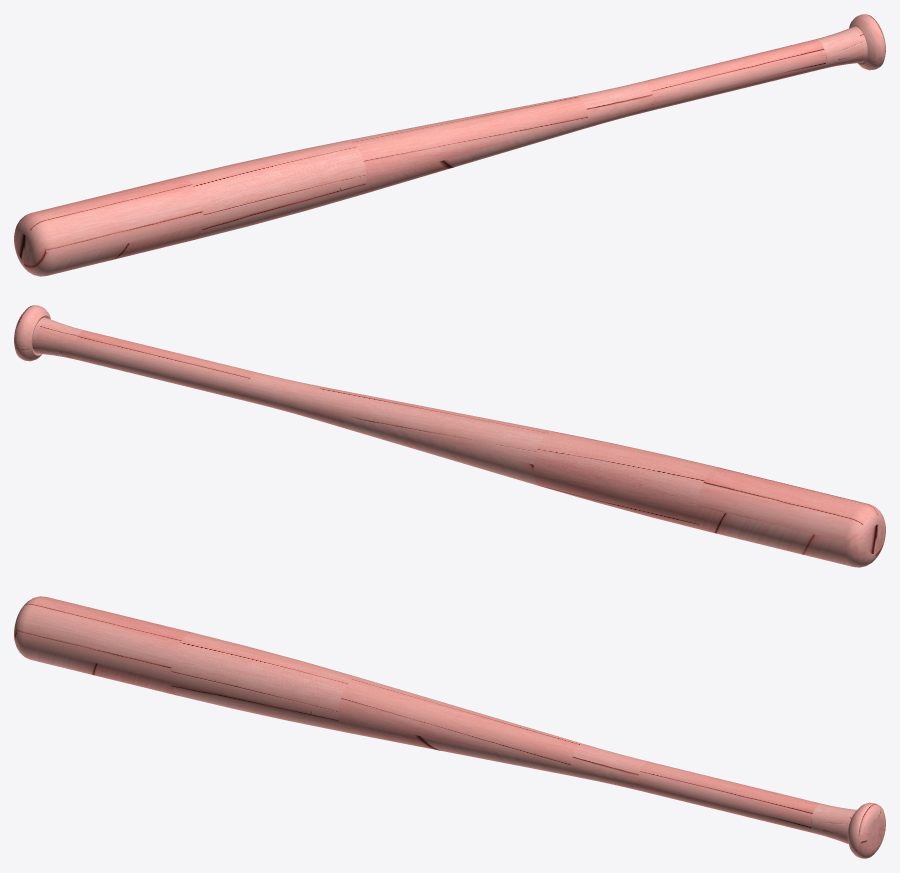
File: BAT_DEFINITIVO.obj
3 renders of one model, top to bottom at view 1: azimuth 30°, elevation 25°; view 2: azimuth 150°, elevation 25°; view 3: azimuth 330°, elevation 25°, orthographic.
Parts seen in each view (by area): view 1: Cylinder__0; view 2: Cylinder__0; view 3: Cylinder__0.
Part boxes in pixels (x1,y1,x2,y2): Cylinder__0: (14,14,885,276); Cylinder__0: (14,305,885,567); Cylinder__0: (14,596,885,858).
Bounding box in the file's own units: 2.06 × 0.136 × 0.136.
1 material, 1 textured.
